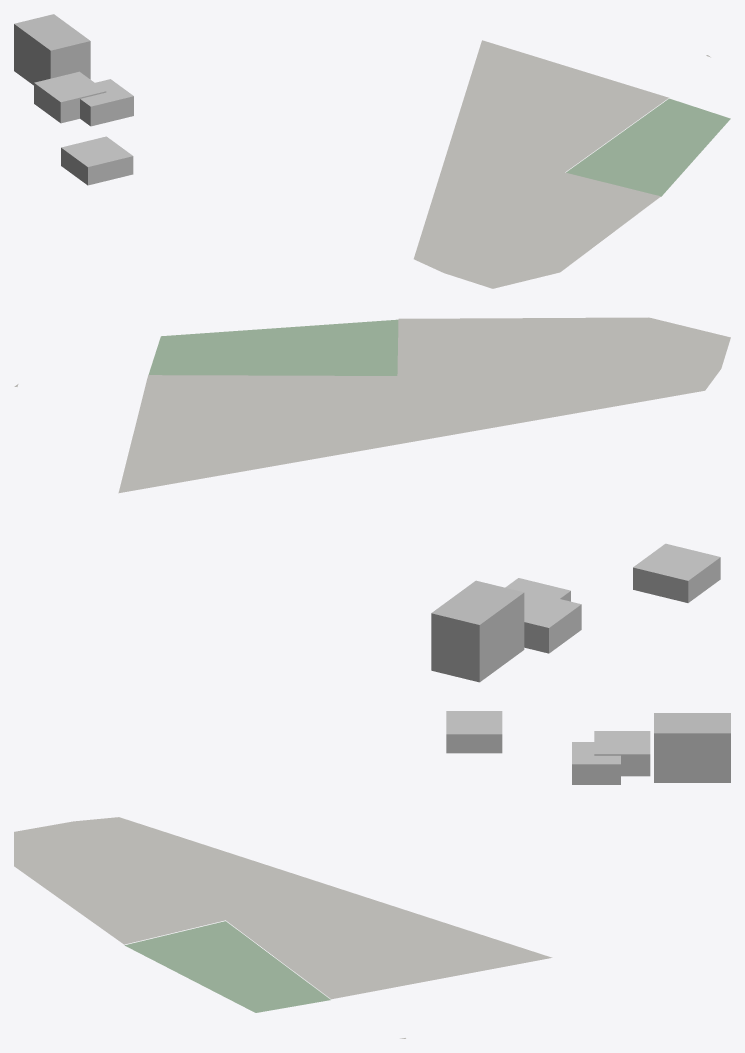
File: 95_108_mid.glb
3 renders of one model, top to bottom at view 1: azimuth 30°, elevation 25°; view 2: azimuth 150°, elevation 25°; view 3: azimuth 270°, elevation 25°, orthographic. The views are drawn at different scales.
Bounding box in the file's own units: 483 × 37.56 × 477.
